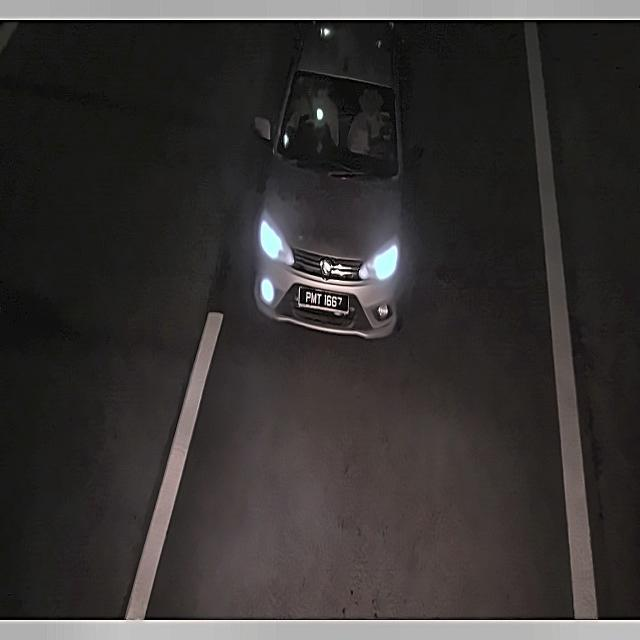car: (296, 280, 355, 318)
